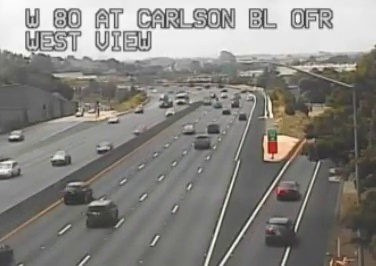car: (87, 201, 117, 227), (266, 218, 292, 245), (63, 181, 92, 204), (276, 180, 300, 199), (194, 135, 210, 148)
